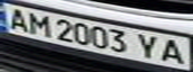0: (69, 20, 93, 47), (90, 24, 109, 52)
2: (51, 16, 75, 43)
3: (109, 27, 130, 54)
A: (157, 37, 190, 65), (3, 6, 30, 33)
M: (24, 10, 54, 37)
Y: (133, 30, 163, 61)
